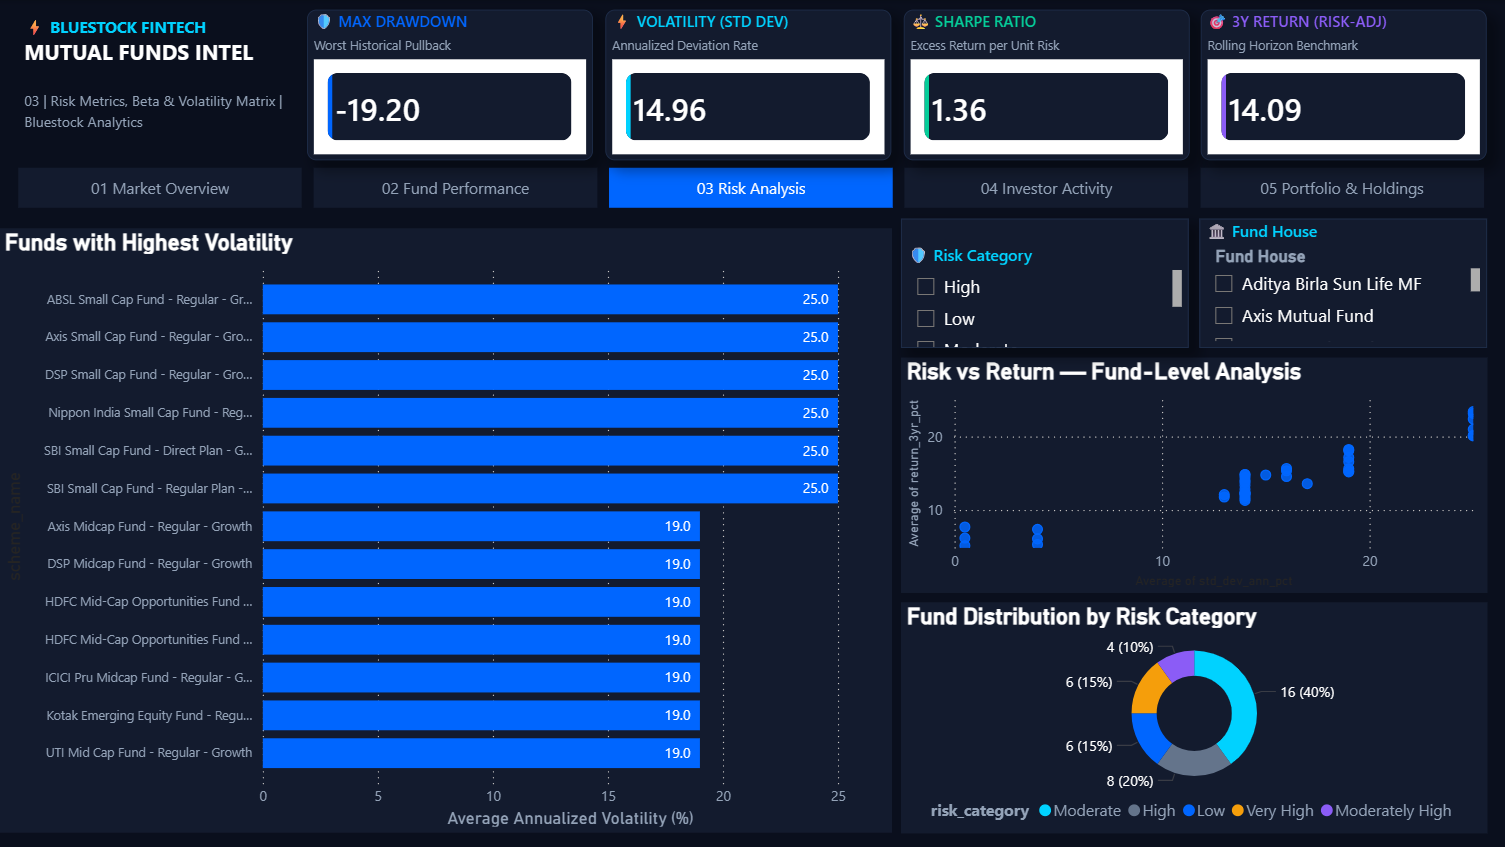

The page's visual inventory and layout, read from the dashboard file:
{"tool":"powerbi","page":{"name":"03 Risk Analysis","canvas":[1280,720],"ordinal":2},"visuals":[{"type":"textbox","box":[16,8,234,60],"z":0},{"type":"textbox","box":[16,70,234,64],"z":1000},{"type":"pageNavigator","box":[16,142,1248,34],"z":2000},{"type":"cardVisual","title":"🛡️ MAX DRAWDOWN","fields":{"Data":["Avg(reporting vw_fund_overview.max_drawdown_pct)"]},"box":[262,8,243,128],"z":3000},{"type":"cardVisual","title":"⚡ VOLATILITY (STD DEV)","fields":{"Data":["Avg(reporting vw_fund_overview.std_dev_ann_pct)"]},"box":[515,8,243,128],"z":4000},{"type":"cardVisual","title":"⚖️ SHARPE RATIO","fields":{"Data":["Avg(reporting vw_fund_overview.sharpe_ratio)"]},"box":[768,8,243,128],"z":5000},{"type":"cardVisual","title":"🎯 3Y RETURN (RISK-ADJ)","fields":{"Data":["Avg(reporting vw_fund_overview.return_3yr_pct)"]},"box":[1021,8,243,128],"z":6000},{"type":"scatterChart","title":"Risk vs Return — Fund-Level Analysis ","fields":{"Category":["reporting vw_fund_overview.amfi_code"],"X":["Avg(reporting vw_fund_overview.std_dev_ann_pct)"],"Y":["Avg(reporting vw_fund_overview.return_3yr_pct)"]},"box":[766,304,498,200],"z":7000},{"type":"clusteredBarChart","title":"Funds with Highest Volatility","fields":{"Category":["reporting vw_fund_overview.scheme_name"],"Y":["Avg(reporting vw_fund_overview.std_dev_ann_pct)"]},"box":[0,194.1,758.2,513.7],"z":8000},{"type":"donutChart","title":"Fund Distribution by Risk Category","fields":{"Category":["reporting vw_fund_overview.risk_category"],"Y":["CountNonNull(reporting vw_fund_overview.amfi_code)"]},"box":[766,512,498,196],"z":9000},{"type":"slicer","title":"🛡️ Risk Category","fields":{"Values":["reporting vw_fund_overview.risk_category"]},"box":[766,186,244,110],"z":10000},{"type":"slicer","title":"🏛️ Fund House","fields":{"Values":["reporting vw_fund_overview.fund_house"]},"box":[1020,186,244,110],"z":11000}]}

Visuals, with their boxes in screenshot pixels (x1, y1, x2, y2), scaled from the page's 1280x720 canvas onto the 1505x847 screenshot:
textbox: region(19, 9, 294, 80)
textbox: region(19, 82, 294, 158)
pageNavigator: region(19, 167, 1486, 207)
"🛡️ MAX DRAWDOWN" cardVisual: region(308, 9, 594, 160)
"⚡ VOLATILITY (STD DEV)" cardVisual: region(606, 9, 891, 160)
"⚖️ SHARPE RATIO" cardVisual: region(903, 9, 1189, 160)
"🎯 3Y RETURN (RISK-ADJ)" cardVisual: region(1200, 9, 1486, 160)
"Risk vs Return — Fund-Level Analysis " scatterChart: region(901, 358, 1486, 593)
"Funds with Highest Volatility" clusteredBarChart: region(0, 228, 891, 833)
"Fund Distribution by Risk Category" donutChart: region(901, 602, 1486, 833)
"🛡️ Risk Category" slicer: region(901, 219, 1188, 348)
"🏛️ Fund House" slicer: region(1199, 219, 1486, 348)
